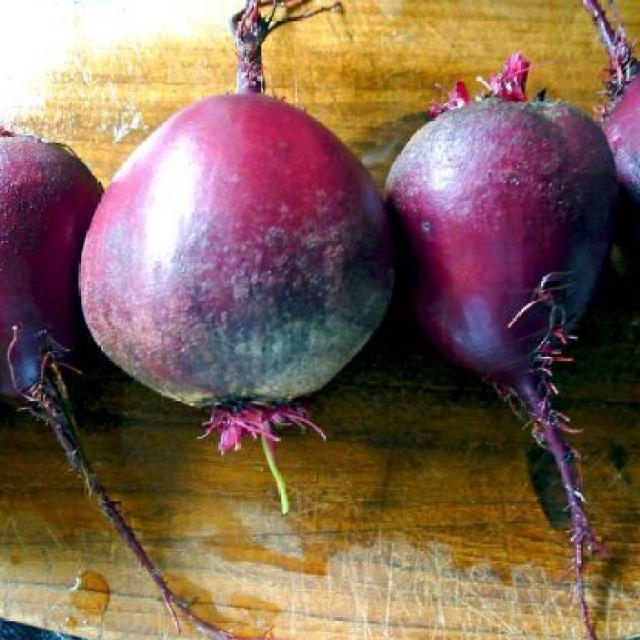Radish: (66, 0, 394, 517), (385, 43, 621, 640), (0, 117, 243, 640), (580, 0, 640, 225)
